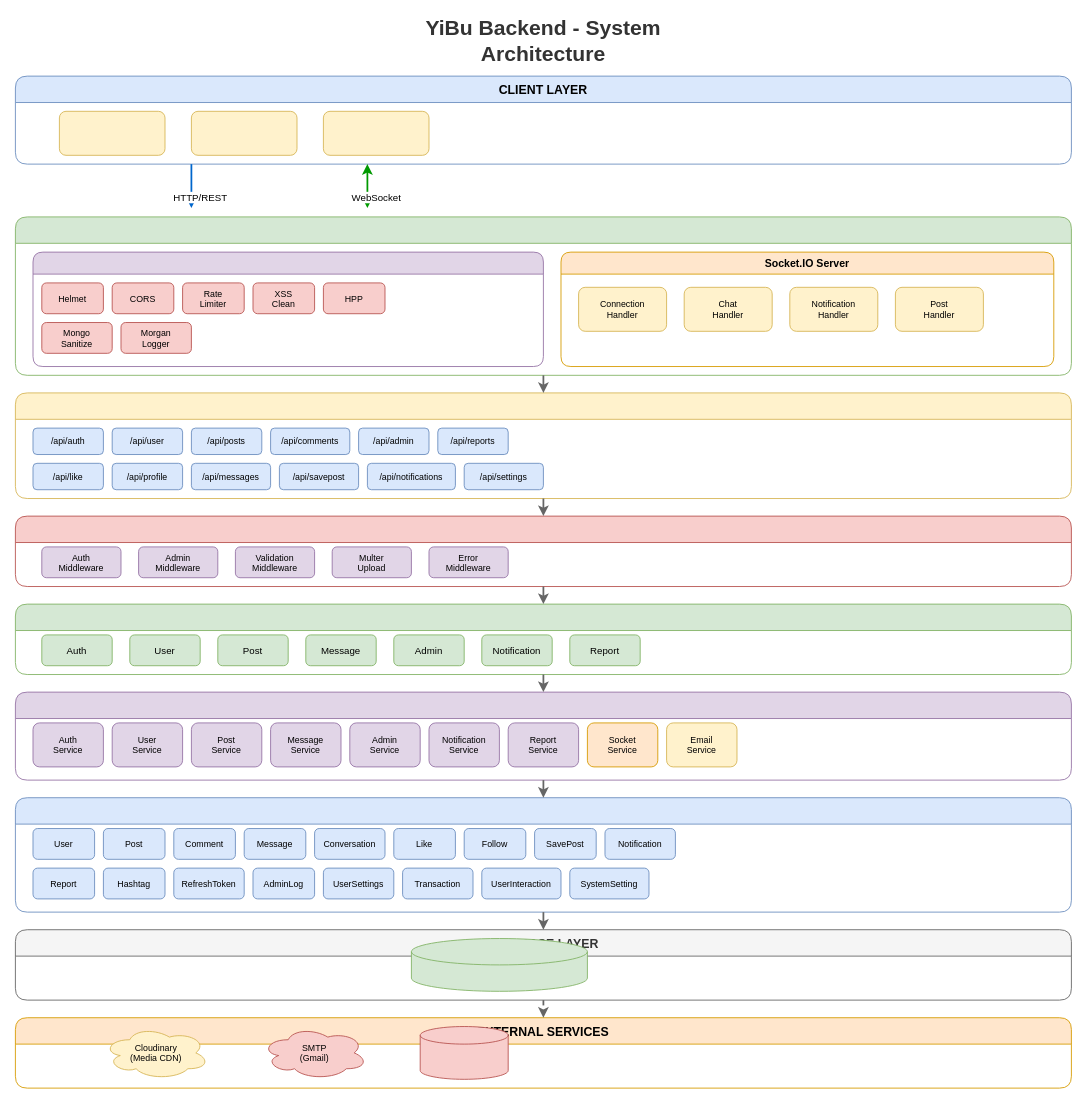
Some shapes in this 1087 by 1104 pixel diagram are drawn without their labels. The box of each missing label's shape, as (x1, y1, x2, y2) in pixels:
API GATEWAY LAYER: (15, 216, 1071, 375)
CONTROLLER LAYER (7 Controllers): (15, 603, 1071, 675)
Express.js Server (Port 5000): (32, 251, 543, 367)
MIDDLEWARE LAYER: (15, 515, 1071, 587)
Mobile App: (191, 110, 297, 155)
MODEL LAYER (17 Mongoose Models): (15, 797, 1071, 912)
MongoDB (Mongoose ODM) Replica Set Enabled: (411, 938, 587, 991)
Postman/API Testing: (323, 110, 429, 155)
React Web App (Vite): (59, 110, 165, 155)
Redis (Cache): (419, 1026, 508, 1079)
ROUTING LAYER (12 Routes): (15, 392, 1071, 499)
SERVICE LAYER (9 Services): (15, 691, 1071, 780)
